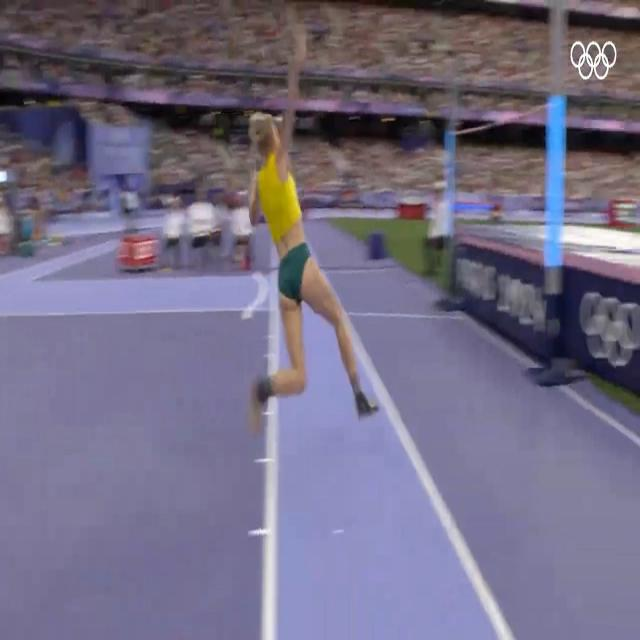run: (238, 68, 380, 426)
